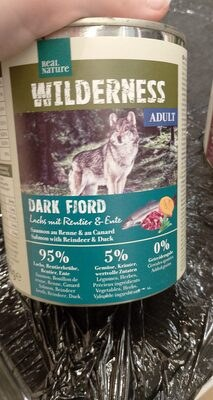Dark Fjord: (11, 20, 202, 380)
